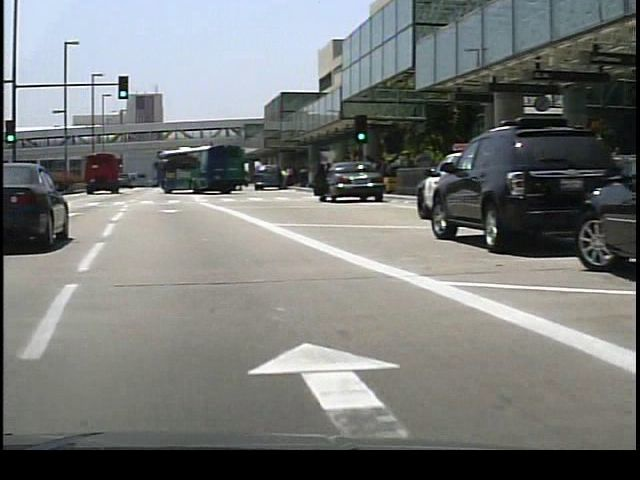person: (274, 166, 285, 190)
